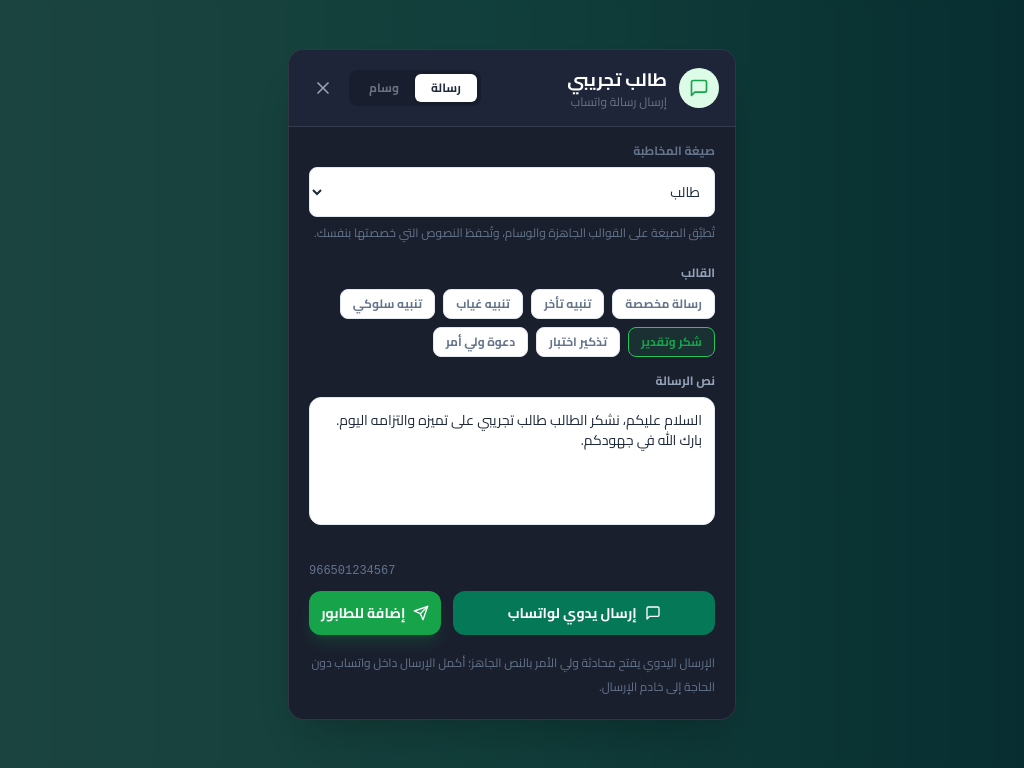
Scenario: Quick WhatsApp sending › reports popup blocking without recording a manual handoff
Click the button "إرسال يدوي لواتساب". click: (584, 612)
box: [453,590,715,634]
(page scrolled)
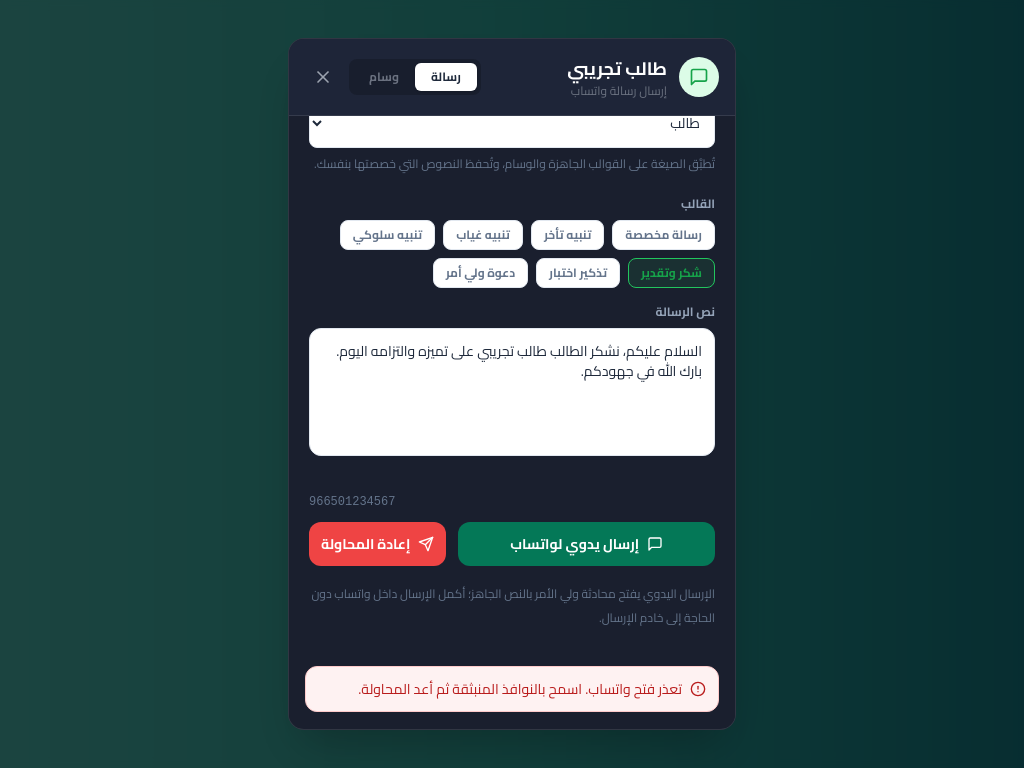
Now the message shows "اسمح بالنوافذ المنبثقة", box [358,676,682,702]
